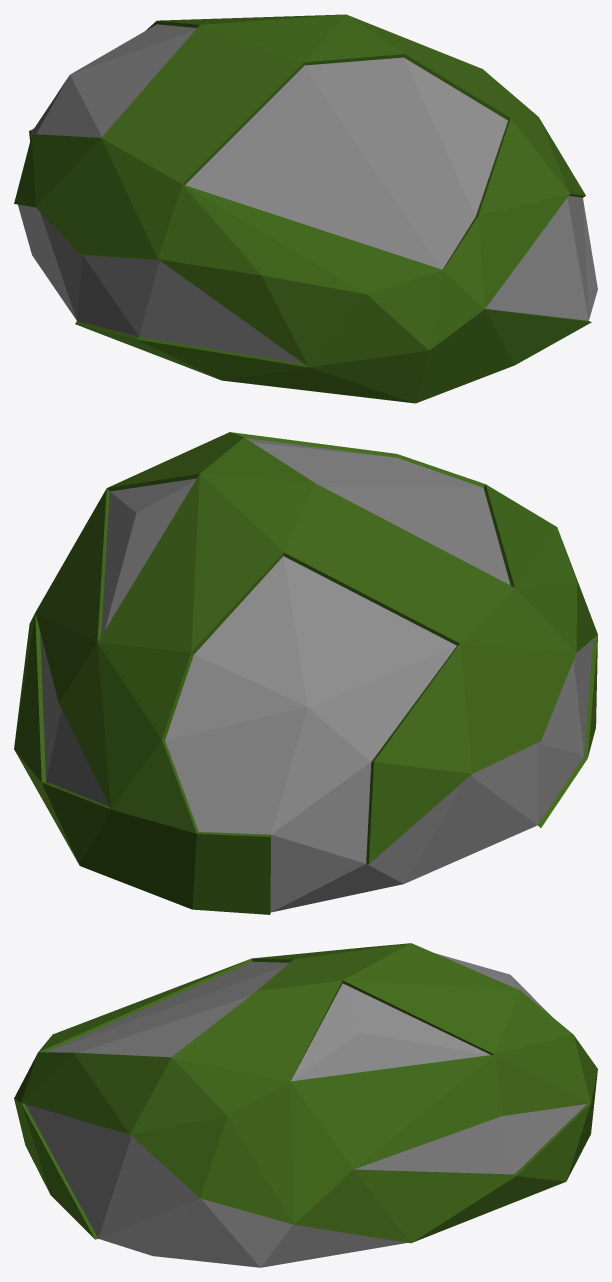
Rendered from stone2.obj.
The picture shows the model from 3 angles, top to bottom: view 1: azimuth 30°, elevation 25°; view 2: azimuth 150°, elevation 25°; view 3: azimuth 270°, elevation 25°; orthographic projection. The views are drawn at different scales.
Parts seen in each view (by area): view 1: Stone_average_01_mossy_Icosphere.009; view 2: Stone_average_01_mossy_Icosphere.009; view 3: Stone_average_01_mossy_Icosphere.009.
Part boxes in pixels (<box>): Stone_average_01_mossy_Icosphere.009: <box>14,14,597,403</box>; Stone_average_01_mossy_Icosphere.009: <box>14,432,597,914</box>; Stone_average_01_mossy_Icosphere.009: <box>14,943,597,1267</box>.
Size of the model in its own units: 1.85 by 0.9214 by 2.29.
